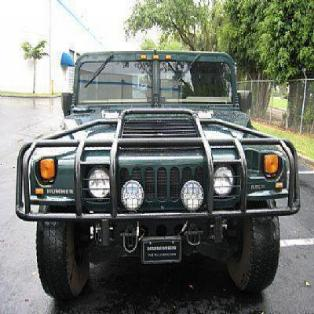Auto: (15, 50, 301, 300)
